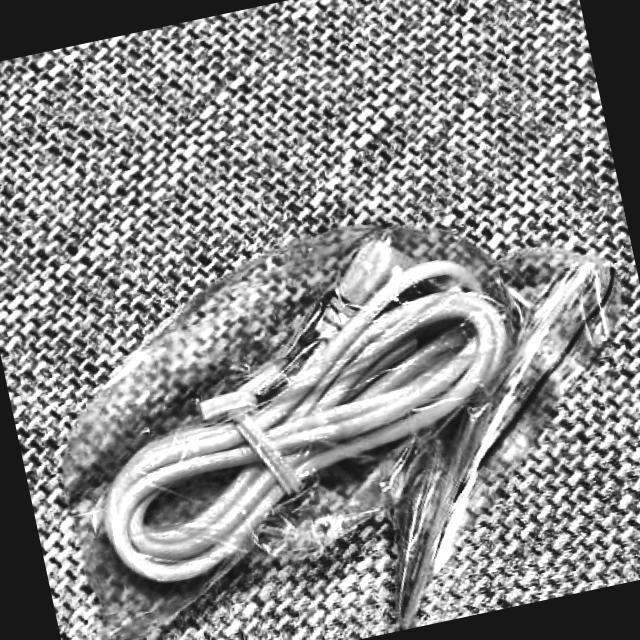Cable: (52, 208, 543, 598)
